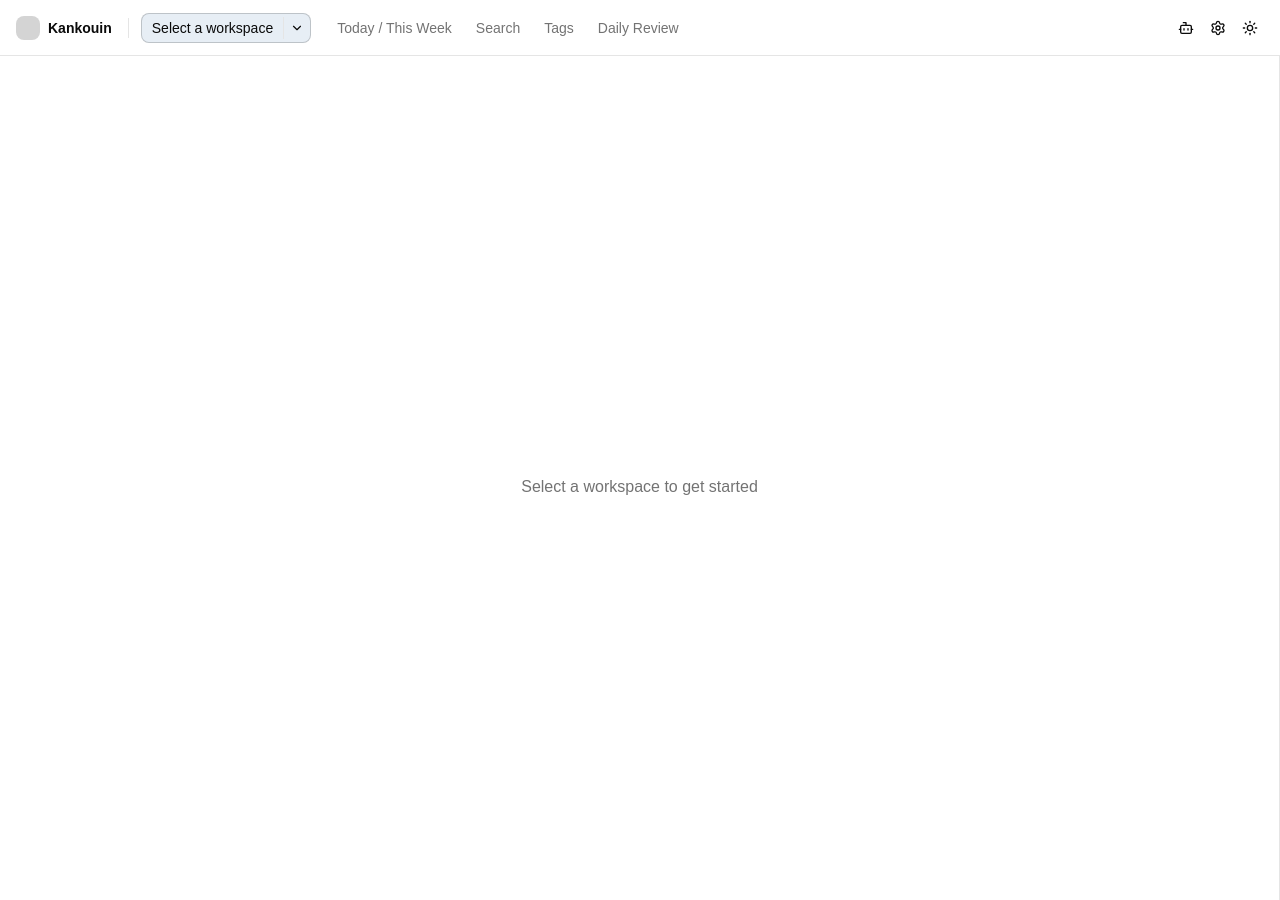
Test: App view navigation › switching to the Search nav entry shows SearchView and hides the workspace pane
The image size is (1280, 900).
Expected: the text "Select a workspace to get started" is shown, x1=521 y1=475 x2=758 y2=499
What coordinates should you click on to do the following:
click the button "Search"
I would click on:
 (498, 28)
Its box is x1=466 y1=12 x2=530 y2=44.
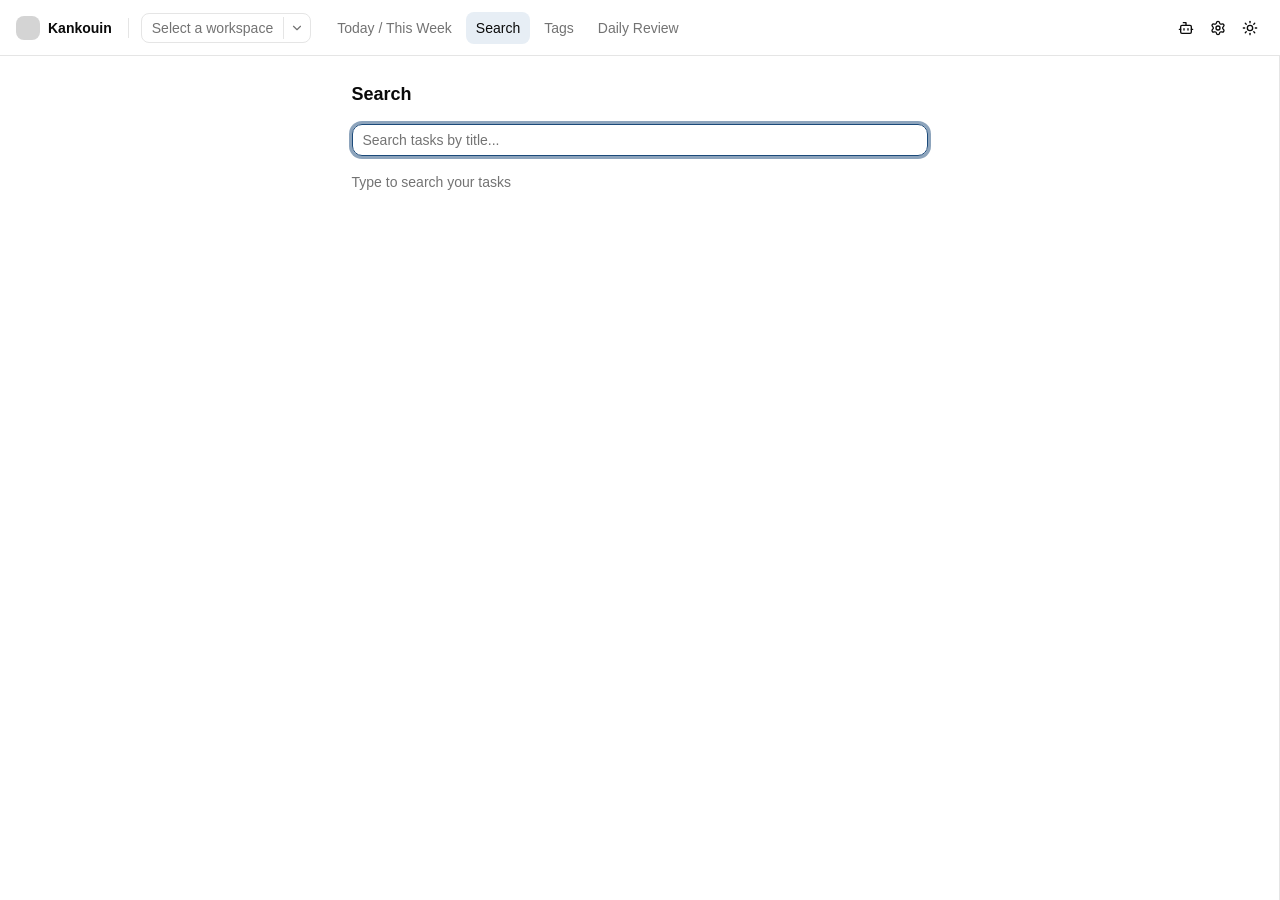
Expected: the heading "Search" is shown, x1=352 y1=84 x2=412 y2=104
Expected: the text "Select a workspace to get started" is gone
